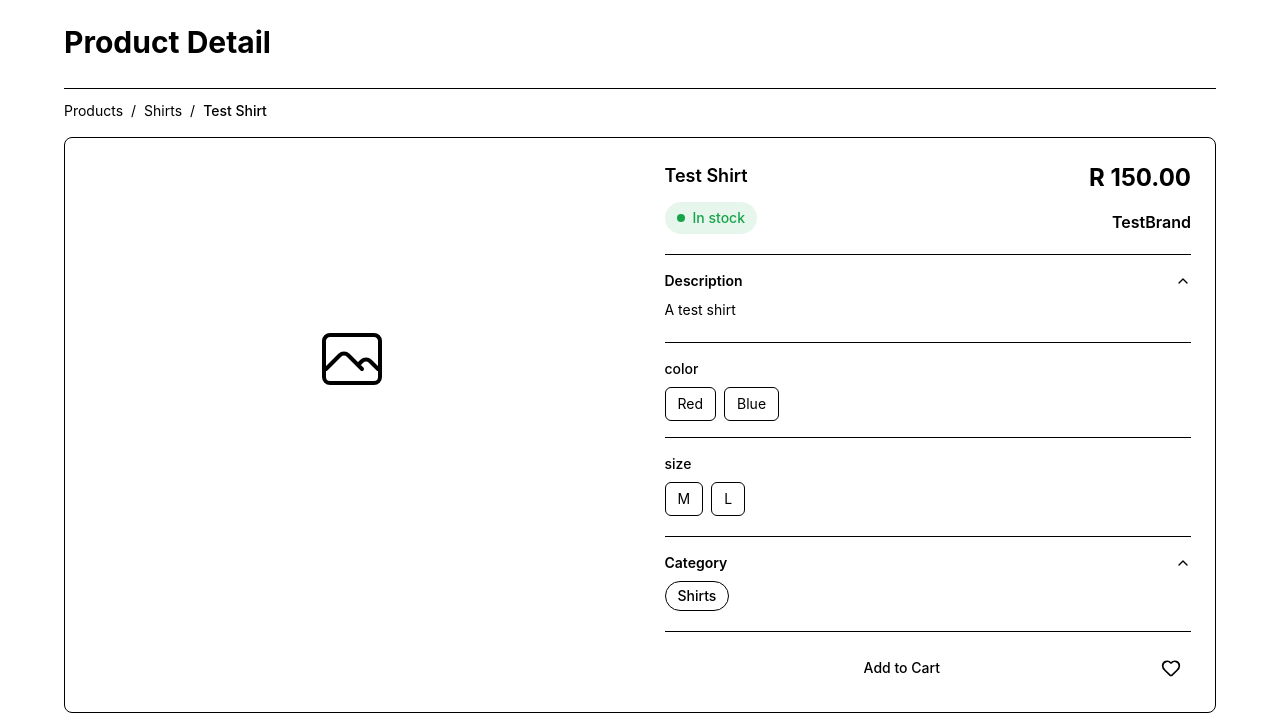
Scenario: ProductDetailPage — cart integration › disables "Add to Cart" button when no variant is selected
Click the button "Red" at (690, 404), box [664,387,716,421]
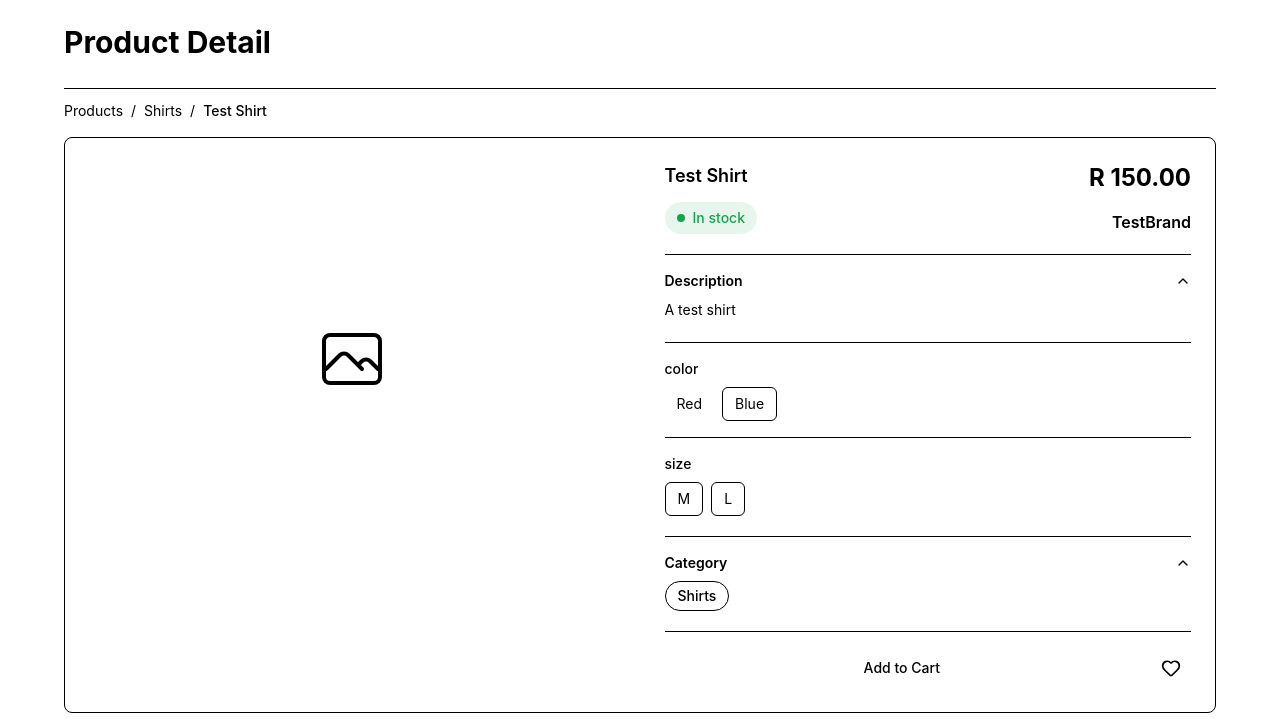
Click the button "L" at (728, 499), box [711,482,745,516]
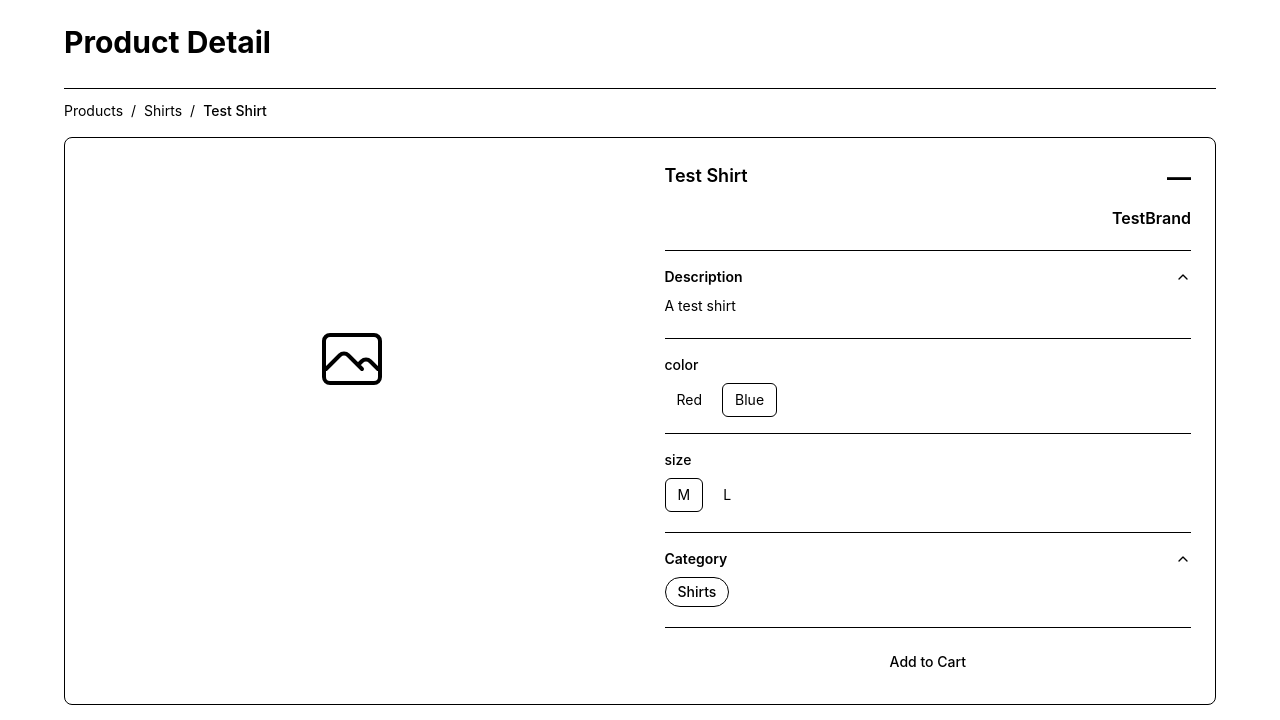
expect the button "Add to Cart" is disabled: met, box [664,644,1191,680]
